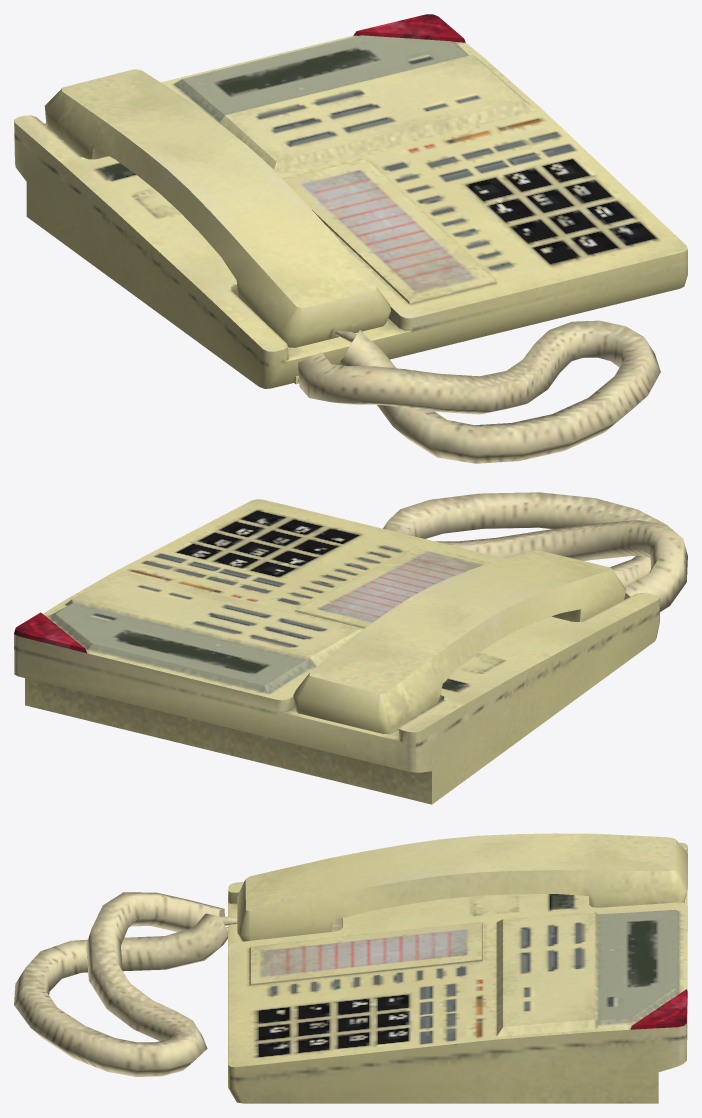
Rendered from 033_ninetiestelephone.fbx.
3 renders of one model, top to bottom at view 1: azimuth 30°, elevation 25°; view 2: azimuth 150°, elevation 25°; view 3: azimuth 270°, elevation 25°, orthographic. The views are drawn at different scales.
Parts seen in each view (by area): view 1: LOD_1_Group_0_Sub_1__sm31_033_NinetiesTelephone01A_A_Mat1; view 2: LOD_1_Group_0_Sub_1__sm31_033_NinetiesTelephone01A_A_Mat1; view 3: LOD_1_Group_0_Sub_1__sm31_033_NinetiesTelephone01A_A_Mat1.
Part boxes in pixels (x1,y1,x2,y2): LOD_1_Group_0_Sub_1__sm31_033_NinetiesTelephone01A_A_Mat1: [14, 14, 687, 463]; LOD_1_Group_0_Sub_1__sm31_033_NinetiesTelephone01A_A_Mat1: [14, 492, 687, 804]; LOD_1_Group_0_Sub_1__sm31_033_NinetiesTelephone01A_A_Mat1: [14, 833, 687, 1103].
Size of the model in its own units: 0.24 by 0.0741 by 0.3702.
